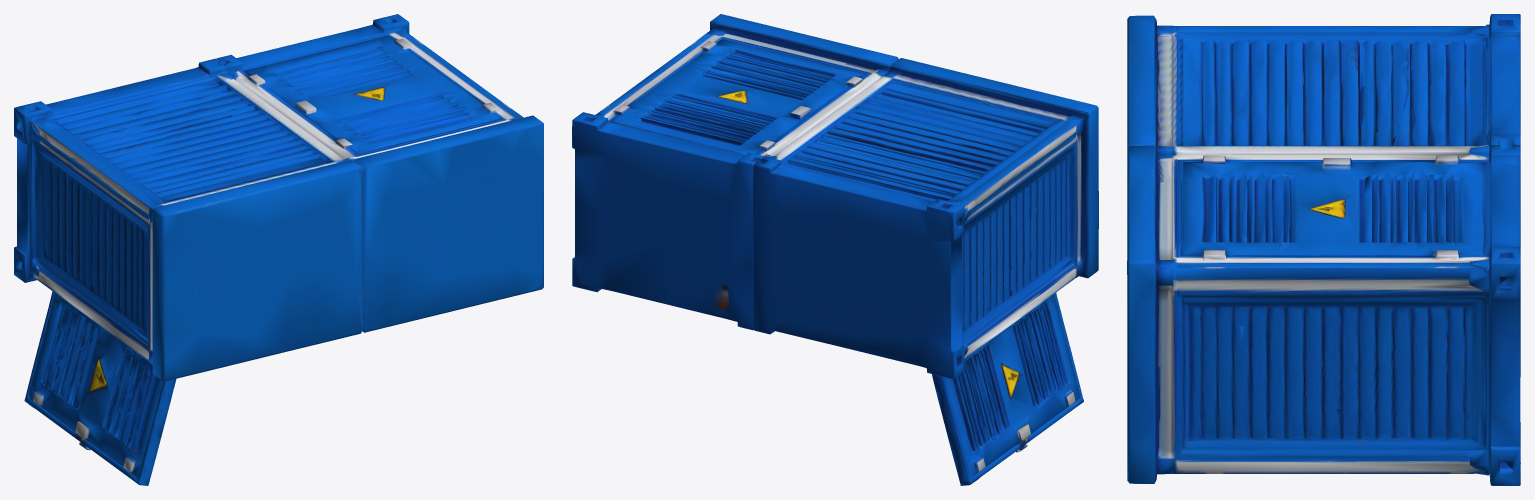
File: ktpn1.glb
The picture shows the model from 3 angles, left to right: view 1: azimuth 30°, elevation 25°; view 2: azimuth 150°, elevation 25°; view 3: azimuth 270°, elevation 25°; orthographic projection. The views are drawn at different scales.
Visible parts, largest first — view 1: ktpn_body; view 2: ktpn_body; view 3: ktpn_body.
Part boxes in pixels (left/top/right/bottom): ktpn_body: left=14, top=14, right=543, bottom=485; ktpn_body: left=572, top=14, right=1098, bottom=485; ktpn_body: left=1127, top=14, right=1520, bottom=485.
Size of the model in its own units: 4.6 by 3.28 by 3.04.
1 material, 1 textured.
